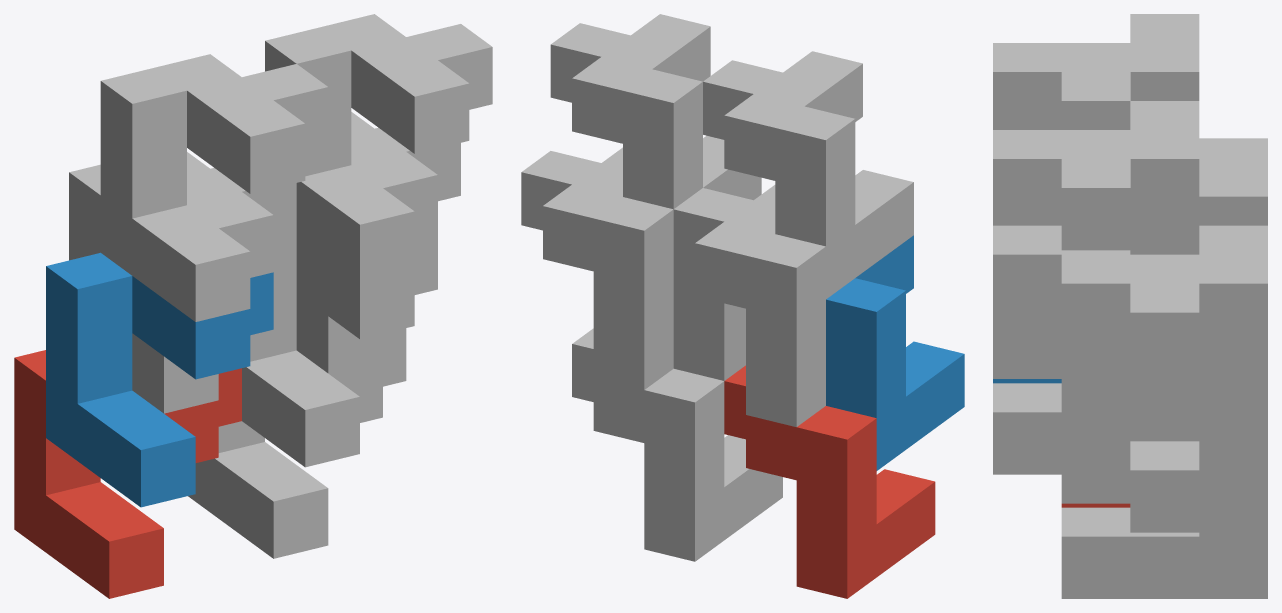
The model's file is tiling.obj.
The picture shows the model from 3 angles, left to right: view 1: azimuth 30°, elevation 25°; view 2: azimuth 150°, elevation 25°; view 3: azimuth 270°, elevation 25°; orthographic projection. The views are drawn at different scales.
Visible parts, largest first — view 1: copy_1_domain_4, copy_1_domain_2, copy_1_domain_8, copy_1_domain_6, copy_1_domain_1, copy_1_domain_5, copy_1_domain_3, copy_1_domain_7; view 2: copy_1_domain_4, copy_1_domain_8, copy_1_domain_1, copy_1_domain_7, copy_1_domain_3, copy_1_domain_5, copy_1_domain_2, copy_1_domain_6; view 3: copy_1_domain_7, copy_1_domain_5, copy_1_domain_8, copy_1_domain_4, copy_1_domain_6, copy_1_domain_3.
Part boxes in pixels (box(x1,y1,x2,y2)): copy_1_domain_4: box(100, 54, 328, 321); copy_1_domain_2: box(46, 252, 273, 507); copy_1_domain_8: box(265, 14, 492, 281); copy_1_domain_6: box(242, 232, 437, 467); copy_1_domain_1: box(14, 350, 241, 598); copy_1_domain_5: box(188, 328, 406, 558); copy_1_domain_3: box(69, 152, 296, 413); copy_1_domain_7: box(296, 112, 460, 373); copy_1_domain_4: box(703, 51, 913, 299); copy_1_domain_8: box(550, 14, 761, 209); copy_1_domain_1: box(724, 365, 935, 598); copy_1_domain_7: box(521, 147, 673, 389); copy_1_domain_3: box(673, 185, 825, 426); copy_1_domain_5: box(572, 328, 782, 561); copy_1_domain_2: box(826, 235, 964, 470); copy_1_domain_6: box(673, 262, 745, 380); copy_1_domain_7: box(1061, 225, 1267, 441); copy_1_domain_5: box(1061, 441, 1267, 598); copy_1_domain_8: box(993, 101, 1199, 316); copy_1_domain_4: box(993, 14, 1199, 225); copy_1_domain_6: box(993, 316, 1199, 474); copy_1_domain_3: box(1199, 138, 1267, 225).
Size of the model in its own units: 7 by 8 by 4.
